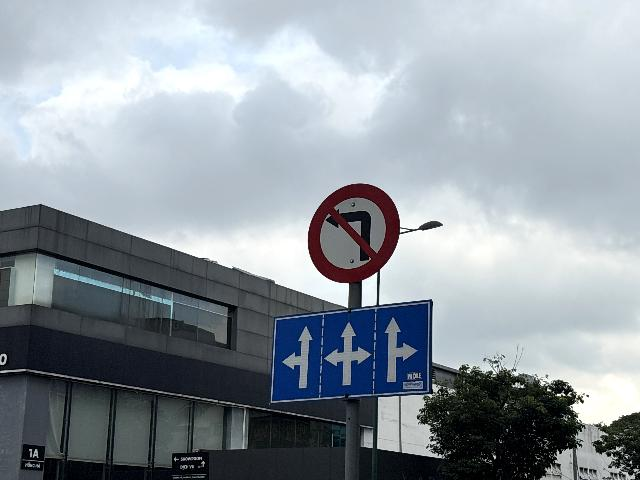cam-re-trai: (307, 183, 401, 284)
